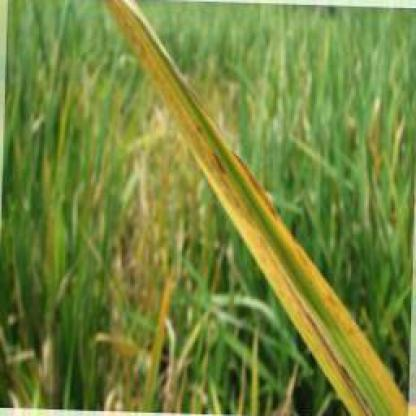Tungro: (113, 5, 407, 415)
